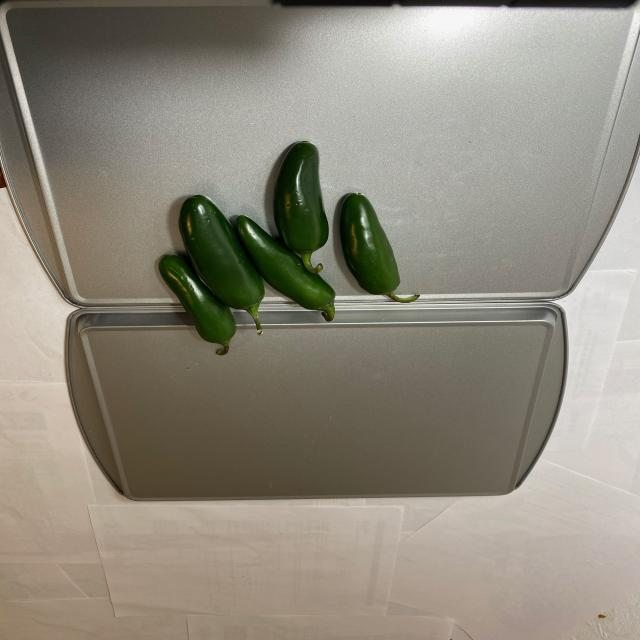chilli: (146, 140, 424, 360)
